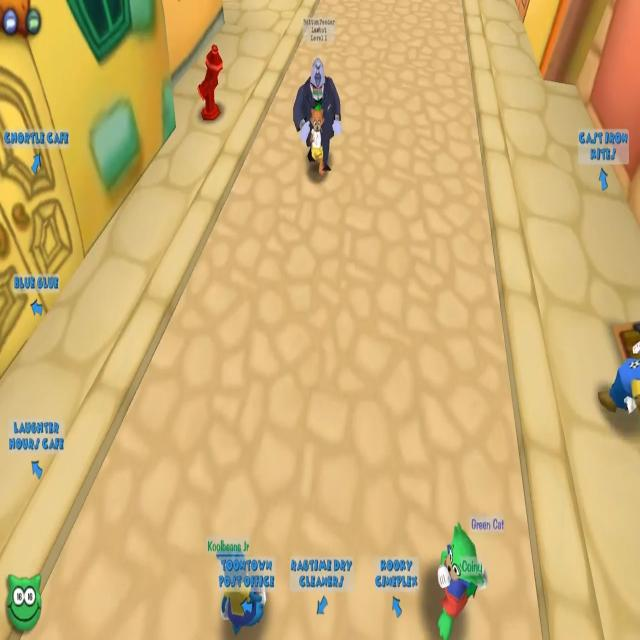bottomfeeder: (294, 26, 350, 181)
